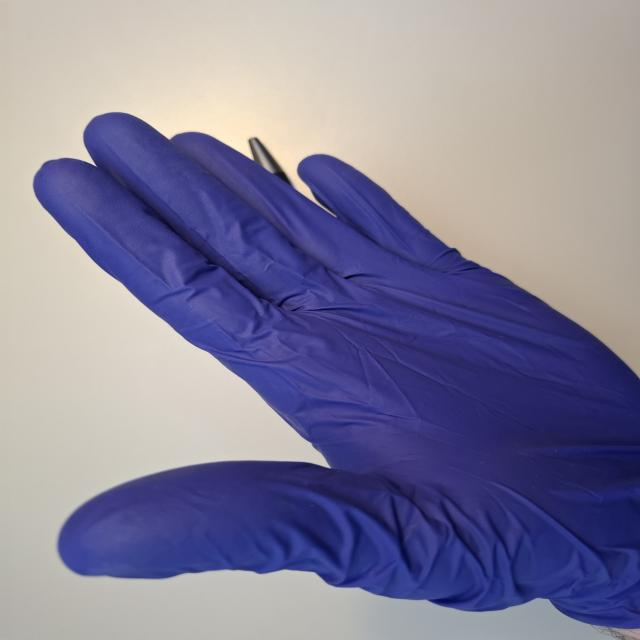glove_on: (27, 109, 640, 632)
